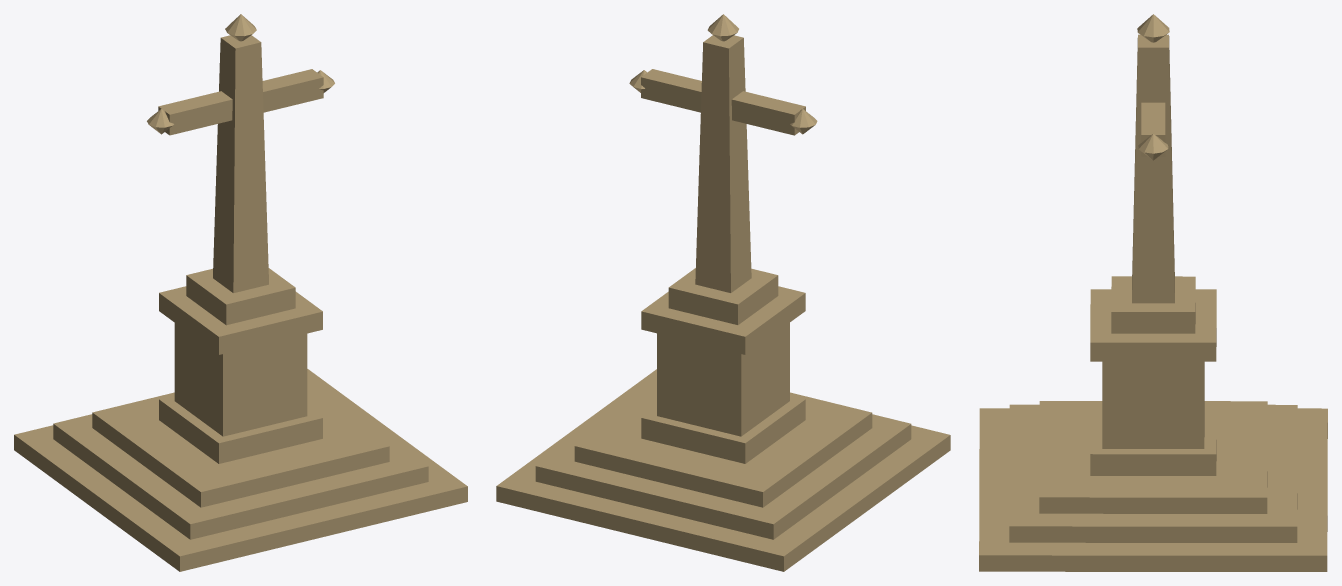
The model's file is CRUZEIRO_SAOFRANCISCO.fbx.
3 renders of one model, left to right at view 1: azimuth 30°, elevation 25°; view 2: azimuth 150°, elevation 25°; view 3: azimuth 270°, elevation 25°, orthographic. The views are drawn at different scales.
Visible parts, largest first — view 1: Cruzeiro_Sao_Francisco; view 2: Cruzeiro_Sao_Francisco; view 3: Cruzeiro_Sao_Francisco.
Boxes of the visible parts, <box> form: Cruzeiro_Sao_Francisco: <box>14,14,467,571</box>; Cruzeiro_Sao_Francisco: <box>496,14,950,571</box>; Cruzeiro_Sao_Francisco: <box>979,14,1327,571</box>.
Bounding box in the file's own units: 5.81 × 8.9 × 5.81.
